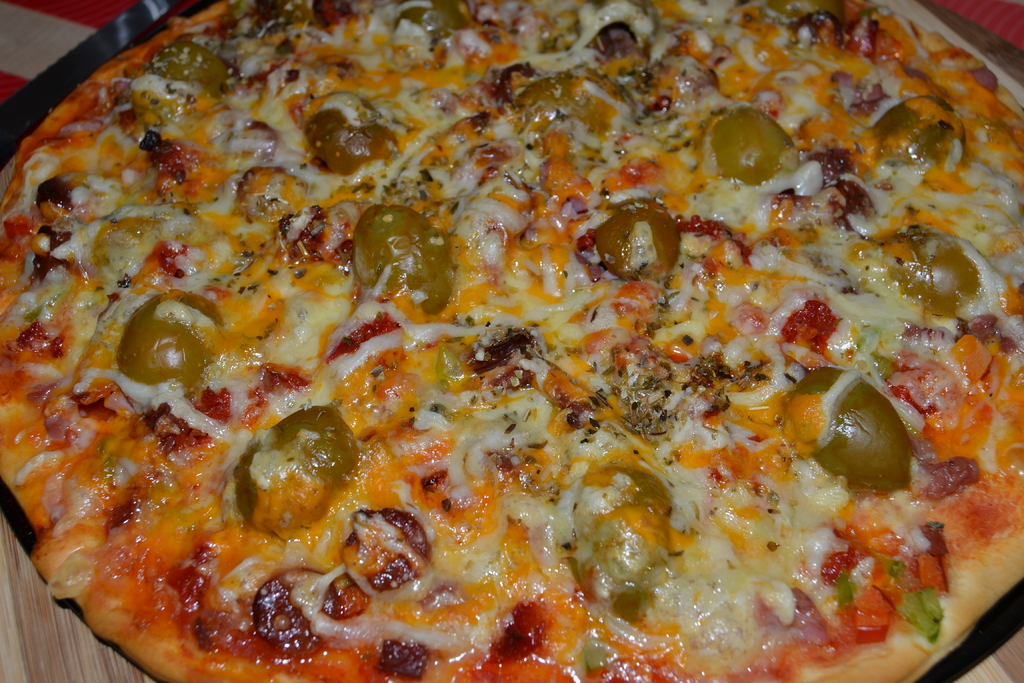Pizza: (8, 0, 1024, 683)
